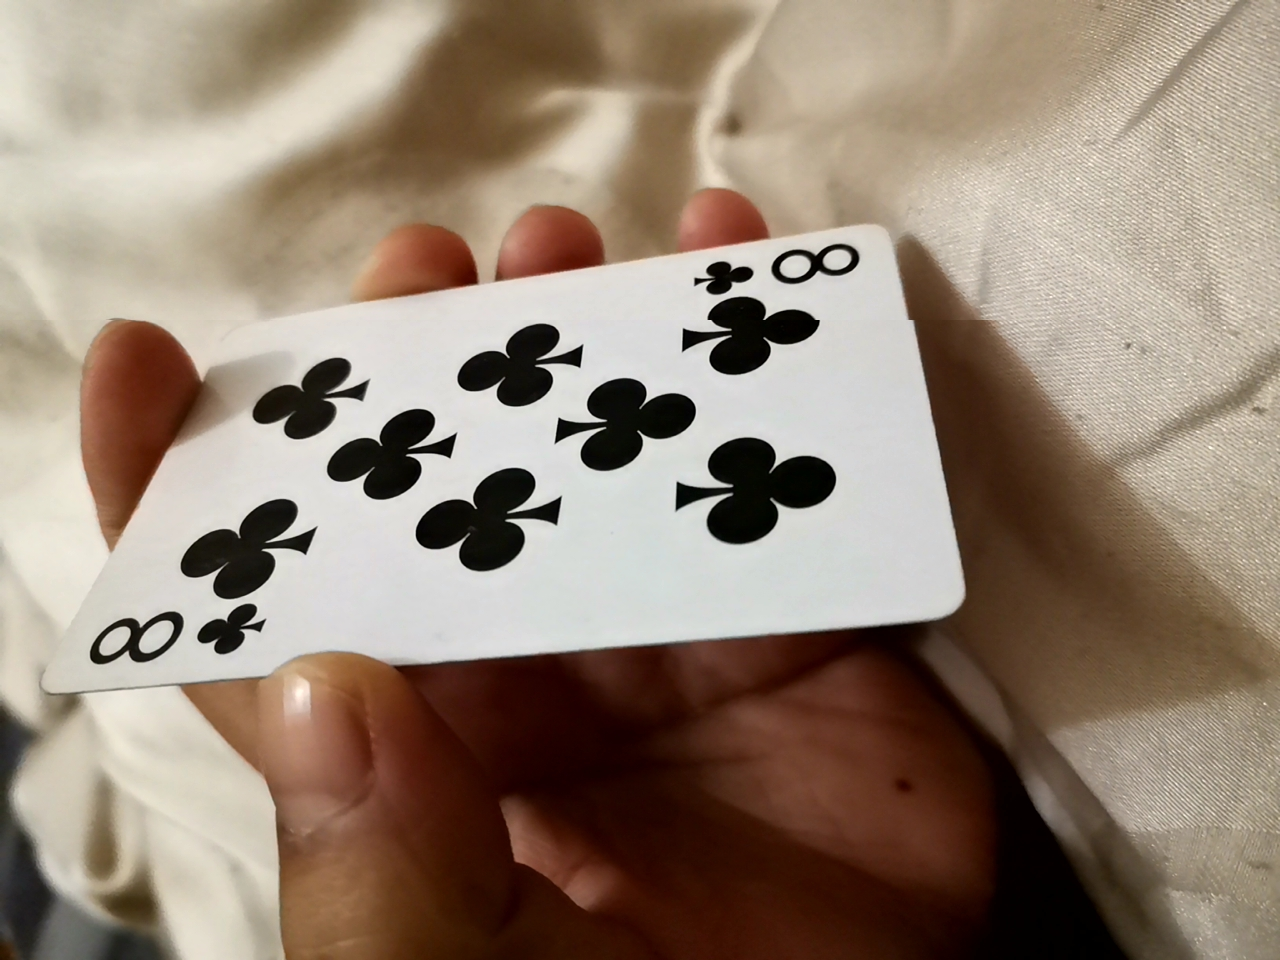mh 8: (50, 234, 953, 693)
